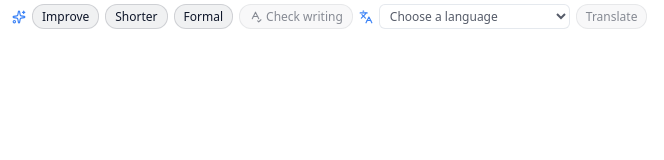
ComposeQuickActions › renders the provider_error refusal with its own copy
Click the button with test id "compose-quick-action-improve".
click(66, 16)  # box [32,4,99,29]
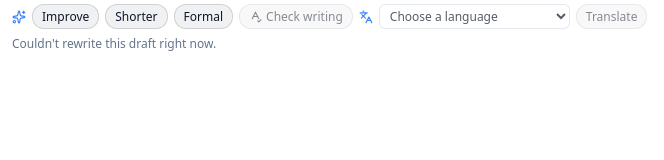
Check: the text with test id "compose-quick-actions-refusal" reads "Couldn't rewrite this draft right now.", box [12,35,216,52]
